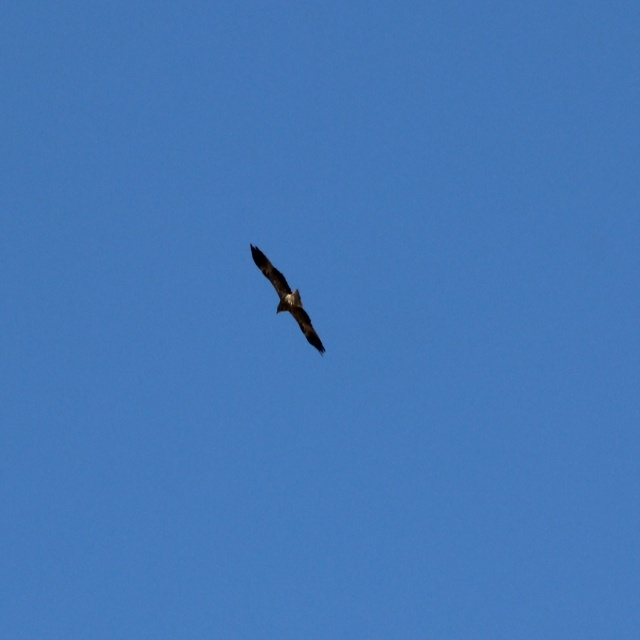Eagle: (248, 240, 327, 358)
